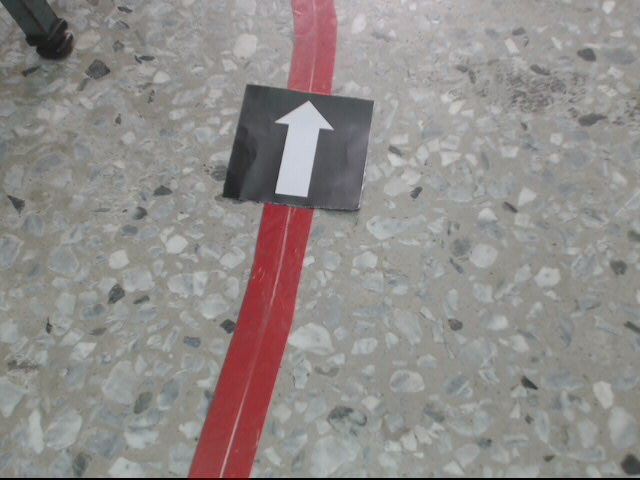straight: (223, 82, 376, 211)
